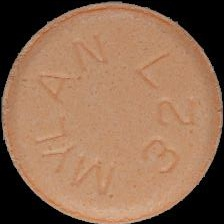54868-2296: (0, 0, 224, 224)
